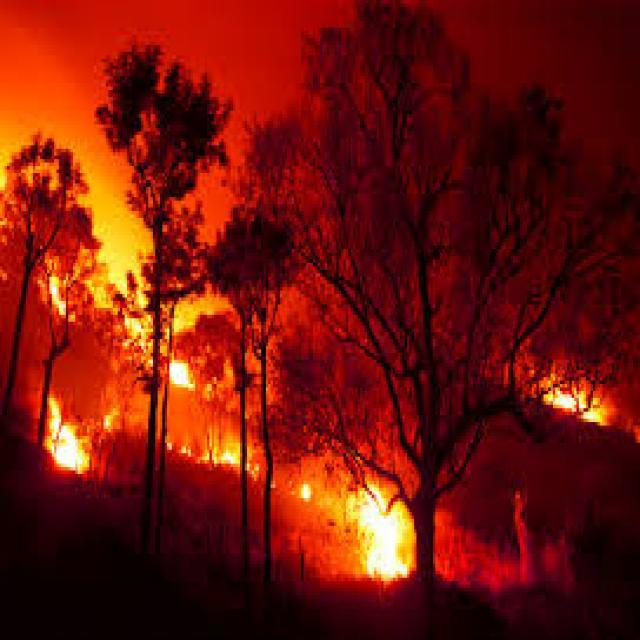Fire: (40, 390, 98, 474), (362, 491, 408, 580), (542, 379, 621, 422), (178, 435, 246, 467), (164, 354, 203, 394), (46, 271, 70, 319), (298, 479, 320, 506)
